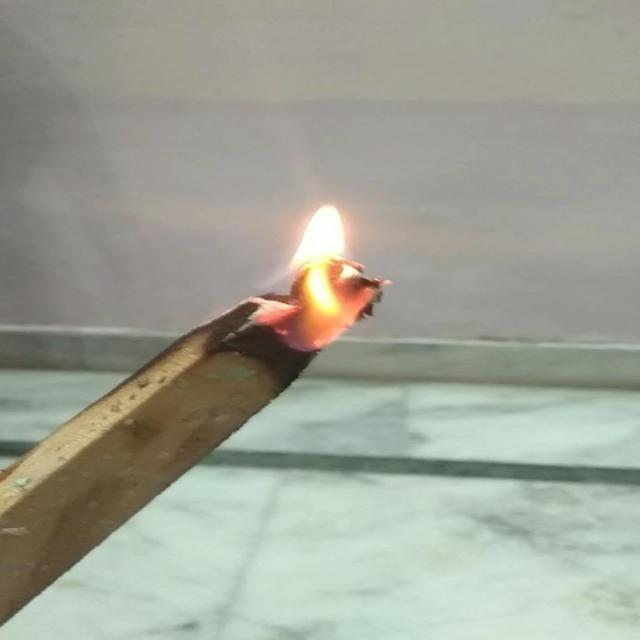smoke: (244, 192, 395, 361)
